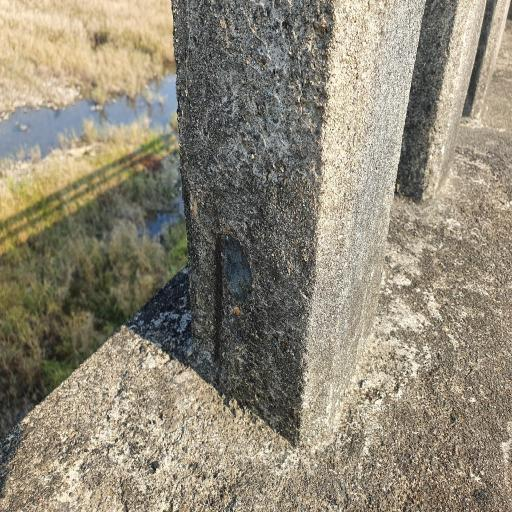exposed_rebar: (214, 235, 223, 389)
spalling: (222, 235, 251, 300)
